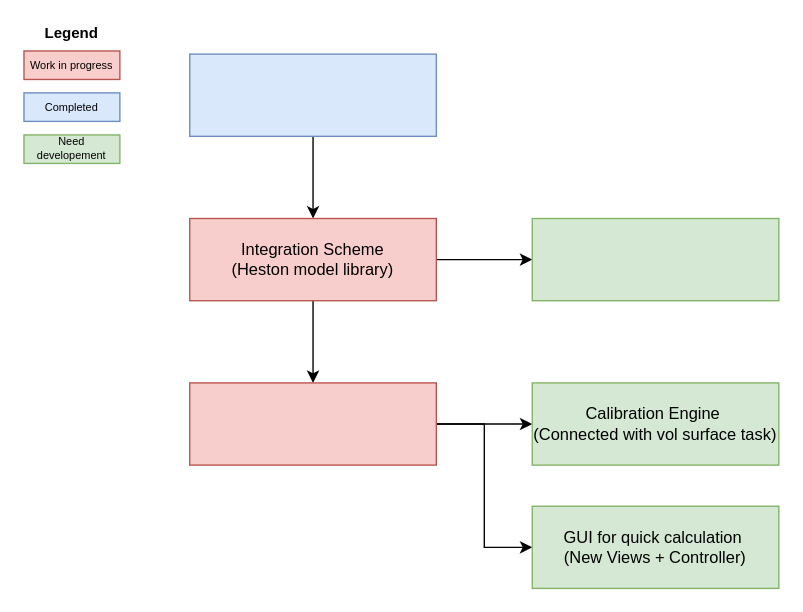
Some shapes in this 803 by 612 pixel diagram are drawn without their labels. The shapes that lost their labels are listed below. From the top down, each one's centre as x and y in pixels, then its label:
the point at 312,94: Complex Number (Complex library)
the point at 655,259: Sensitivity analysis of parameters fitting
the point at 312,423: Heston Pricing Engine (Heston model library)
